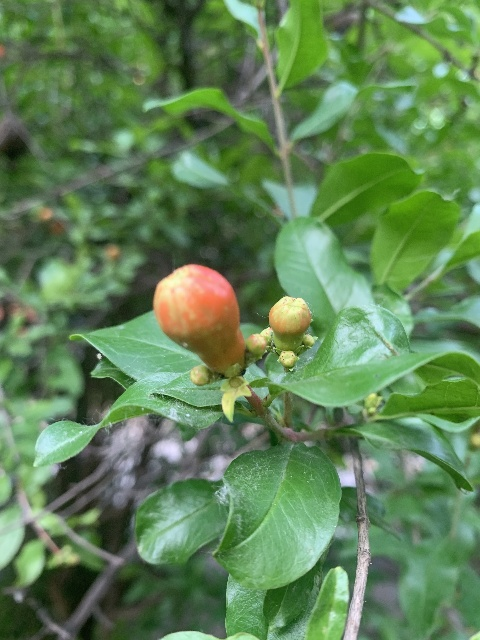bud: (152, 264, 244, 373), (268, 296, 311, 350), (245, 333, 265, 363), (188, 364, 213, 385)
